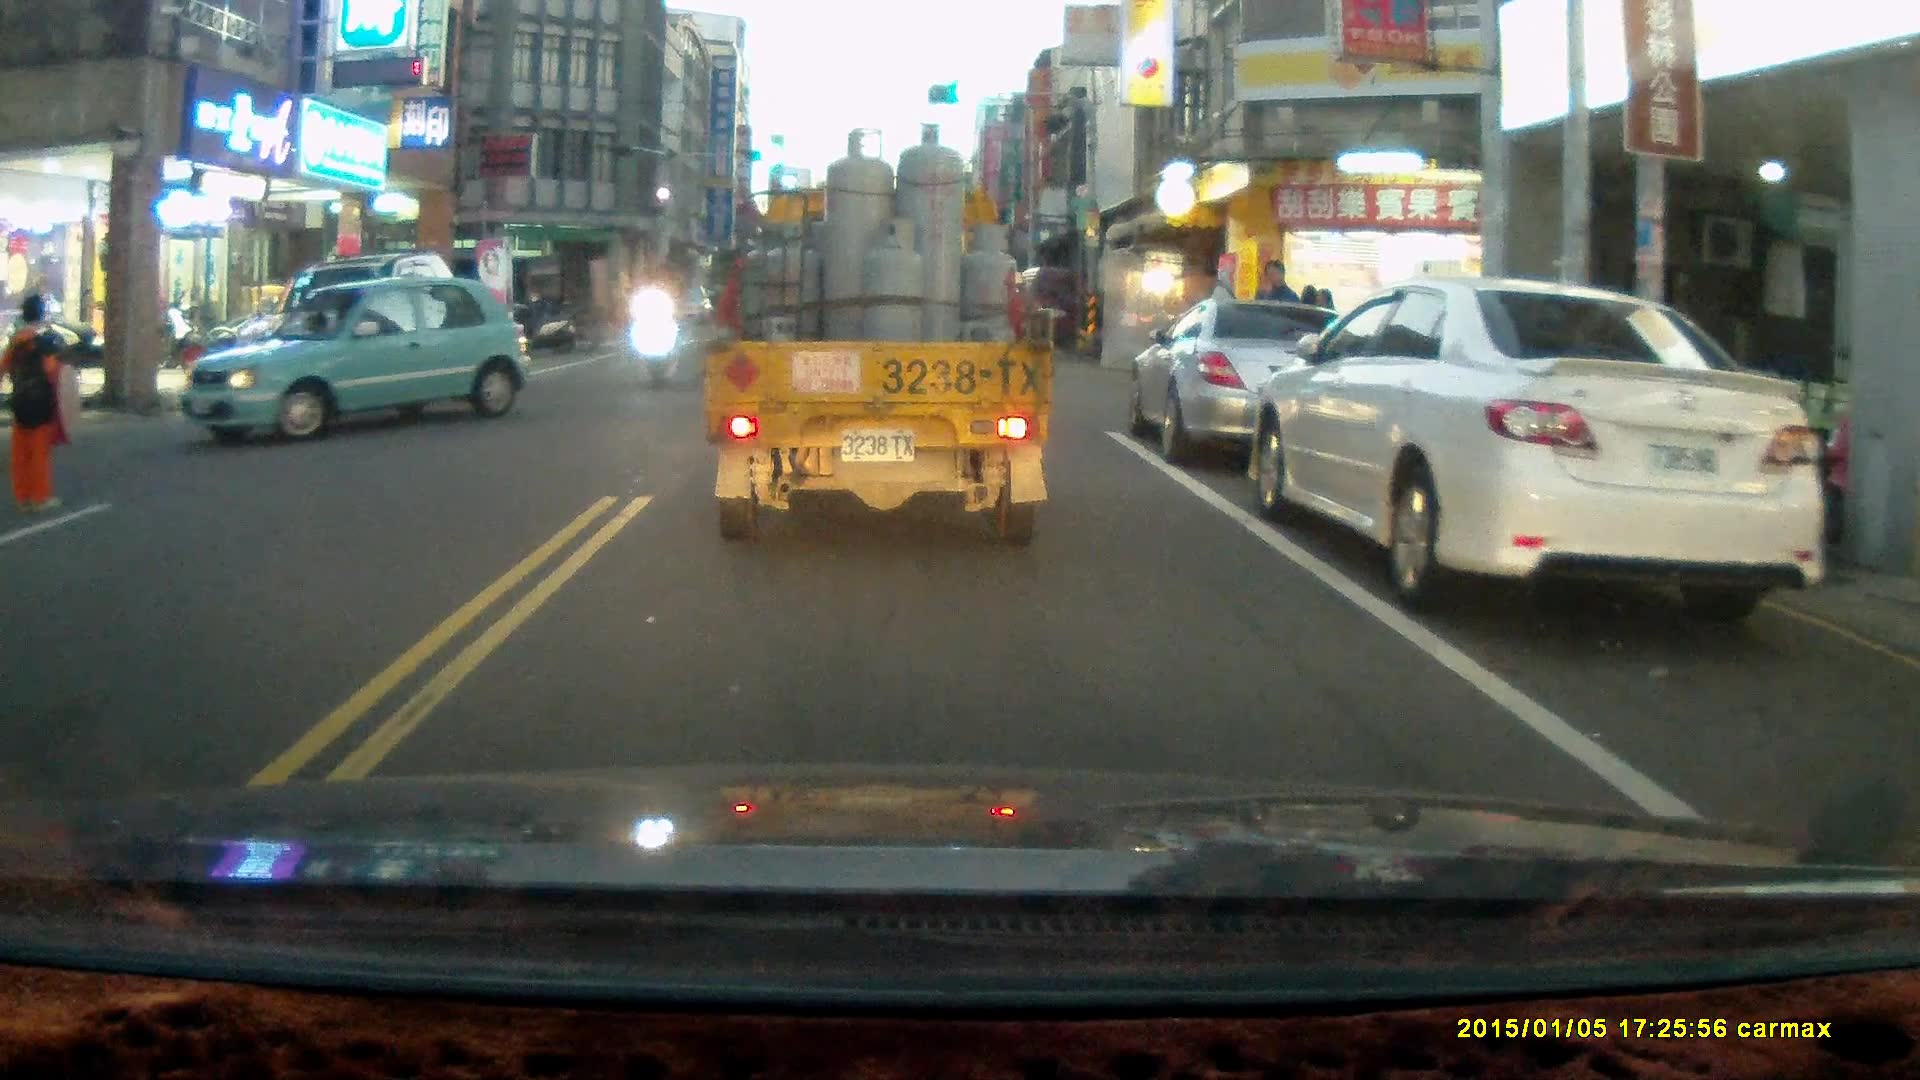pedestrian: (0, 294, 79, 514)
rider: (637, 277, 677, 393)
vehicle: (1249, 282, 1834, 624), (701, 126, 1057, 547), (184, 280, 527, 446), (1136, 298, 1378, 468), (1008, 268, 1105, 358)
